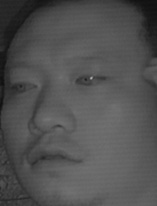eye: (74, 69, 109, 89), (8, 77, 40, 96)
mouth: (23, 139, 87, 175)
